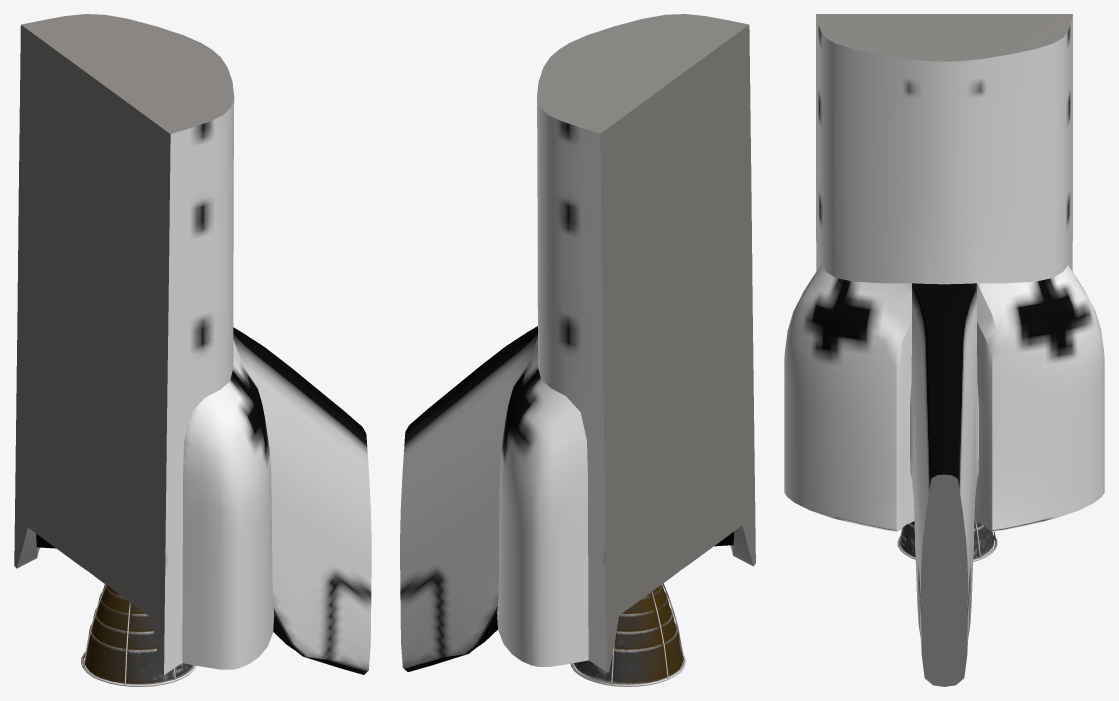
Rendered from Puzzle_3_Cell_08.glb.
3 views of the same model, side by side, from view 1: azimuth 30°, elevation 25°; view 2: azimuth 150°, elevation 25°; view 3: azimuth 270°, elevation 25° (orthographic). The views are drawn at different scales.
Visible parts, largest first — view 1: Puzzle_3_Cell_08; view 2: Puzzle_3_Cell_08; view 3: Puzzle_3_Cell_08.
Part boxes in pixels (x1,y1,x2,y2): Puzzle_3_Cell_08: [14, 14, 371, 686]; Puzzle_3_Cell_08: [400, 14, 755, 686]; Puzzle_3_Cell_08: [784, 14, 1104, 686].
Size of the model in its own units: 12.87 by 30 by 15.44.
Materials: 2 (2 with a texture image).
